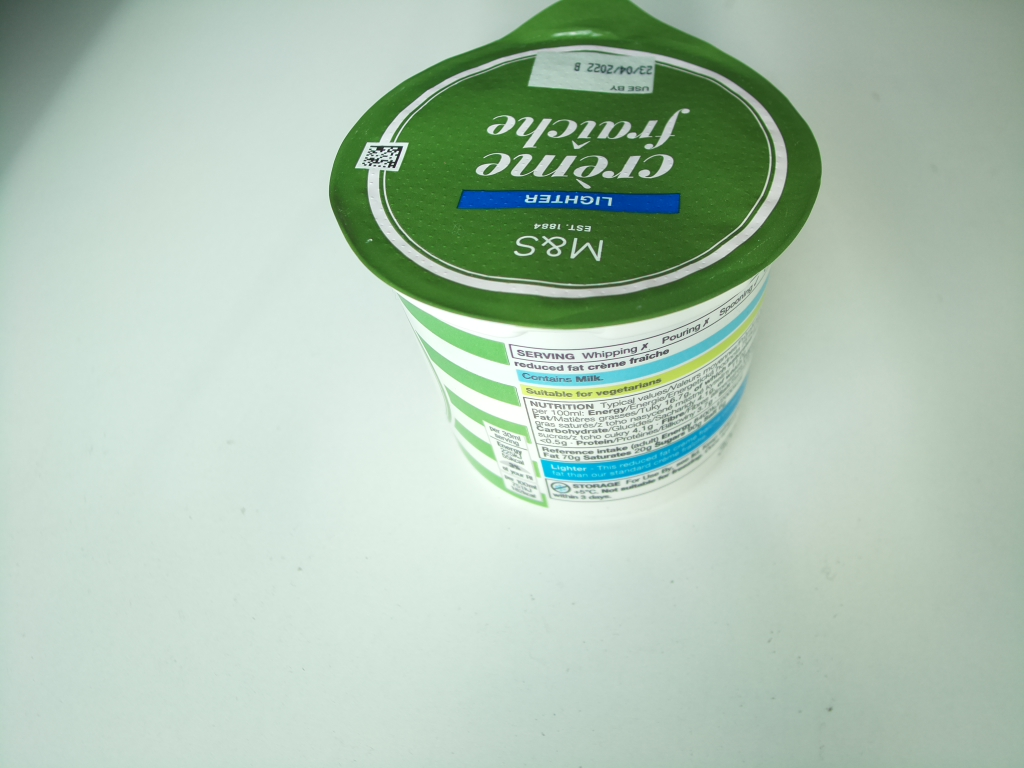cream: (329, 1, 819, 514)
